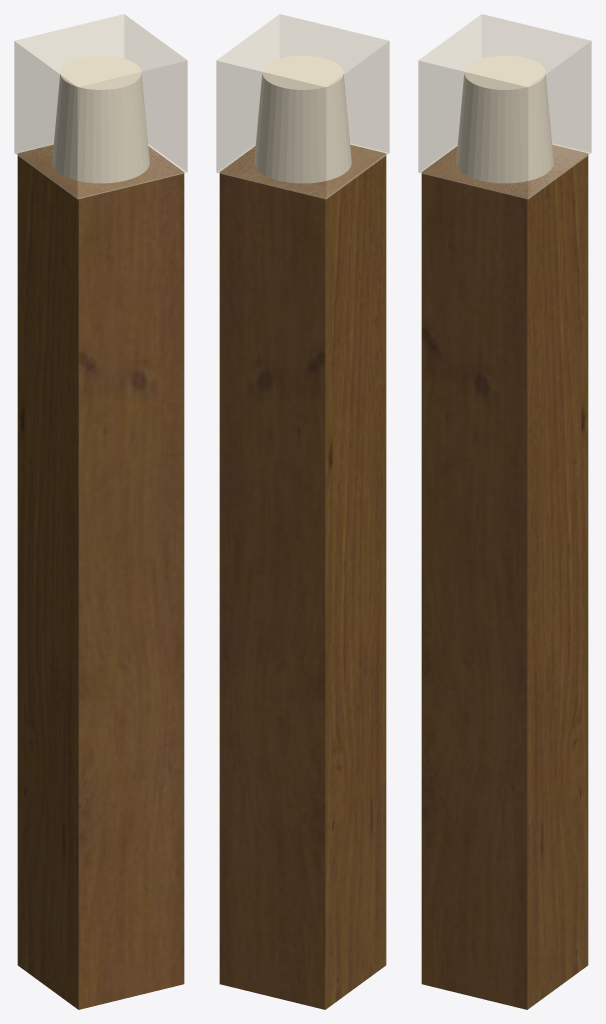
The model's file is SM_Light_2.fbx.
3 views of the same model, side by side, from view 1: azimuth 30°, elevation 25°; view 2: azimuth 150°, elevation 25°; view 3: azimuth 330°, elevation 25° (orthographic).
Parts seen in each view (by area): view 1: SM_Light_2; view 2: SM_Light_2; view 3: SM_Light_2.
Part boxes in pixels (x1,y1,x2,y2): SM_Light_2: (14, 14, 187, 1009); SM_Light_2: (216, 14, 389, 1009); SM_Light_2: (418, 14, 591, 1009).
Size of the model in its own units: 0.078 by 0.626 by 0.078.
Materials: 3 (1 with a texture image).
